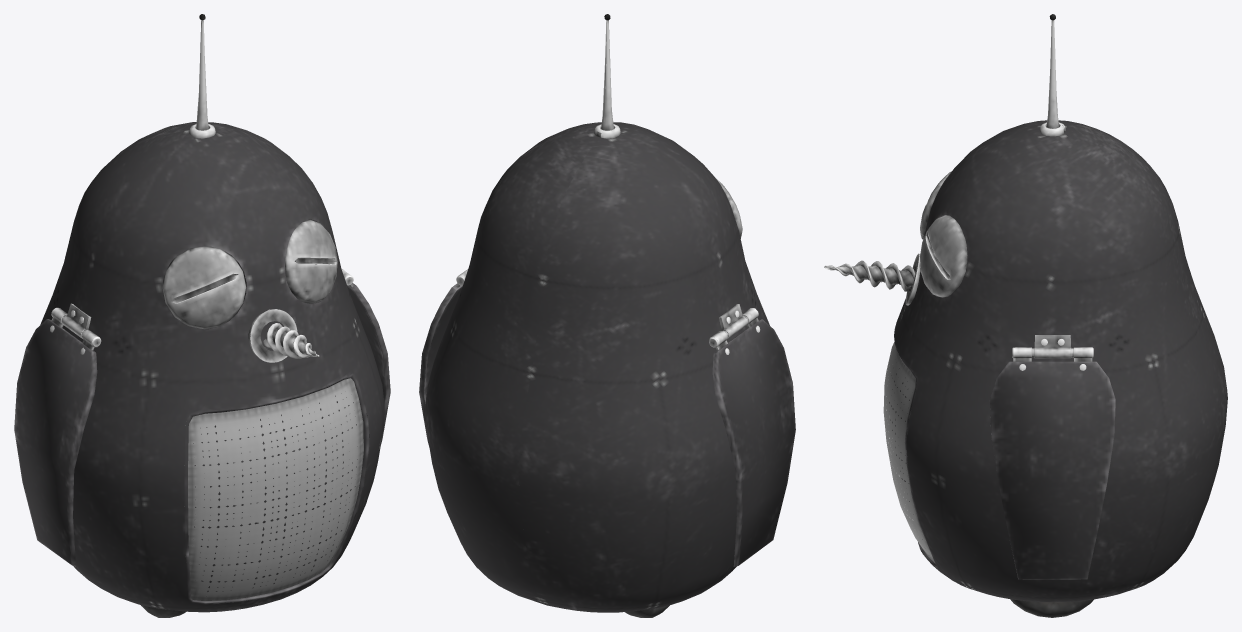
File: weathered-penguin-bot-33afc2.glb
3 views of the same model, side by side, from view 1: azimuth 30°, elevation 25°; view 2: azimuth 150°, elevation 25°; view 3: azimuth 270°, elevation 25° (orthographic).
Parts seen in each view (by area): view 1: PropMesh; view 2: PropMesh; view 3: PropMesh.
Boxes of the visible parts, left/top/right/bottom form: PropMesh: left=14, top=14, right=390, bottom=617; PropMesh: left=419, top=14, right=795, bottom=617; PropMesh: left=824, top=14, right=1227, bottom=617.
Bounding box in the file's own units: 0.3997 × 0.6999 × 0.4427.
Materials: 1 (1 with a texture image).
